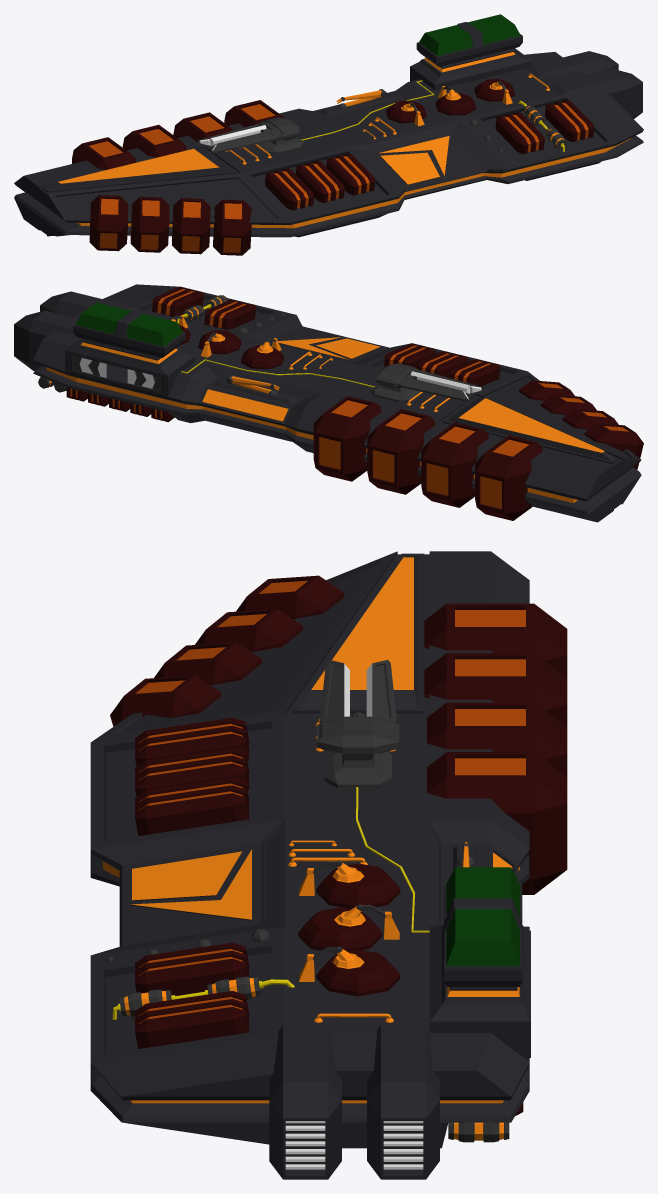
File: SpaceshipCargo.fbx
3 renders of one model, top to bottom at view 1: azimuth 30°, elevation 25°; view 2: azimuth 150°, elevation 25°; view 3: azimuth 270°, elevation 25°, orthographic. The views are drawn at different scales.
Visible parts, largest first — view 1: CargoShip; view 2: CargoShip; view 3: CargoShip.
Boxes of the visible parts, bbox=[...] form: CargoShip: bbox=[14, 14, 643, 255]; CargoShip: bbox=[14, 284, 643, 522]; CargoShip: bbox=[90, 551, 567, 1179].
Bounding box in the file's own units: 32521 × 5485 × 11822.
